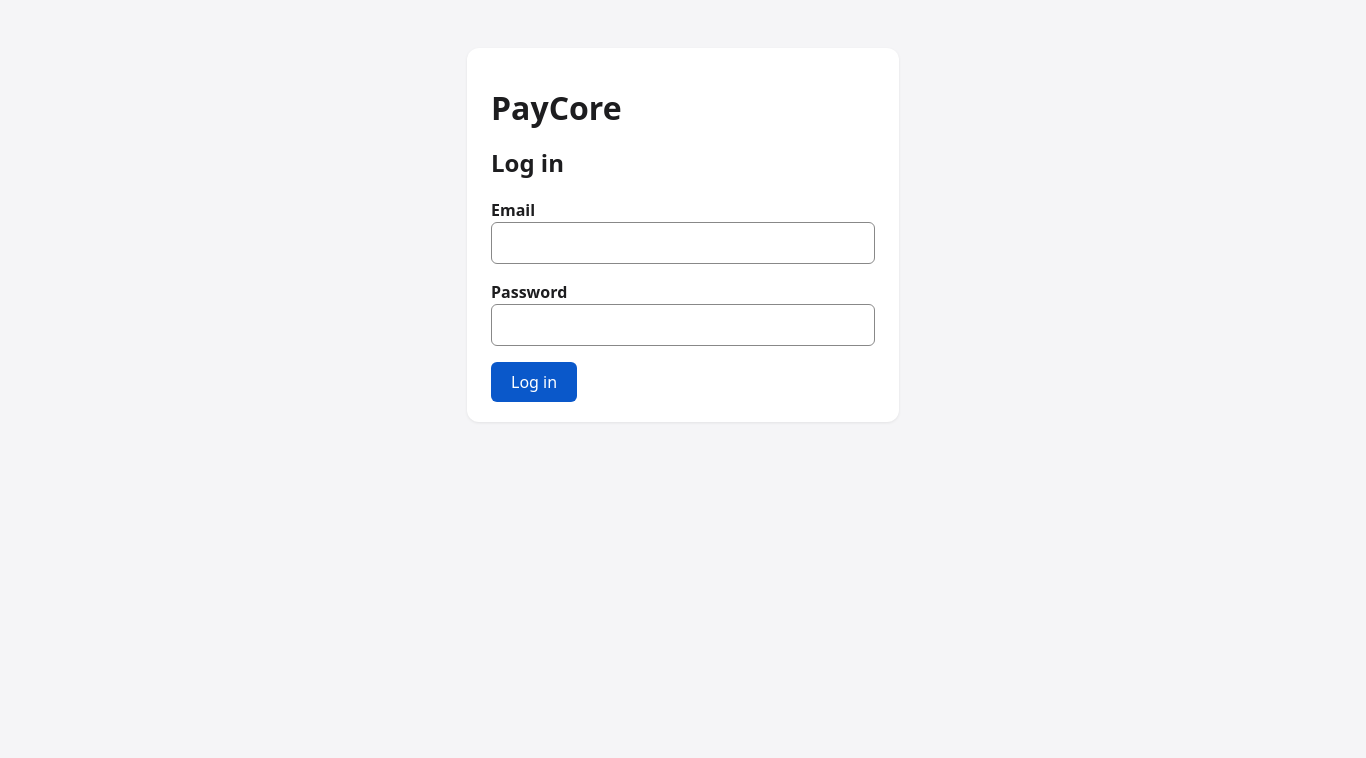
Scenario: App › logs in and shows wallets, balances and ledger entries
The width and height of the screenshot is (1366, 758).
Type "asha@example.com" into the field labelled "Email" at point(683, 243), box [491,222,875,264]
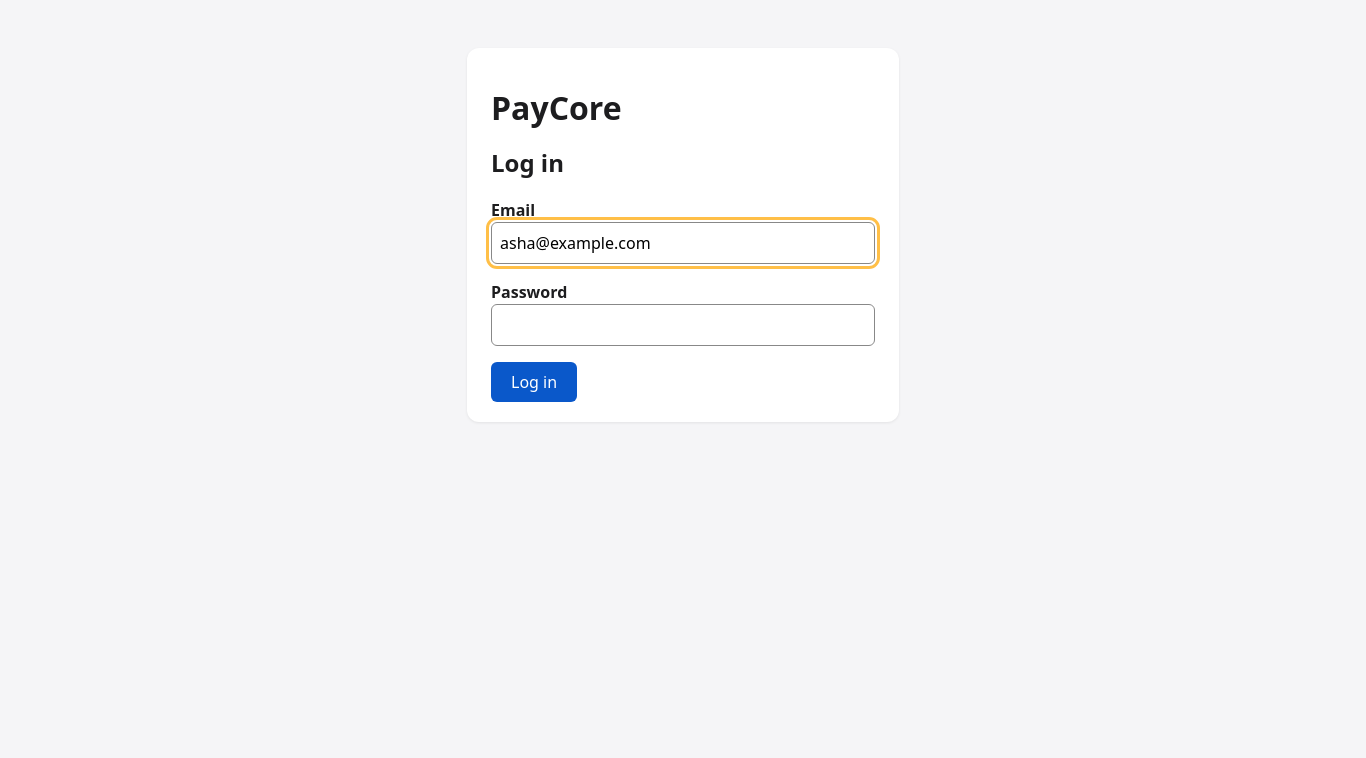
Type "a-long-password" into the password field labelled "Password" at point(683, 325), box [491,304,875,346]
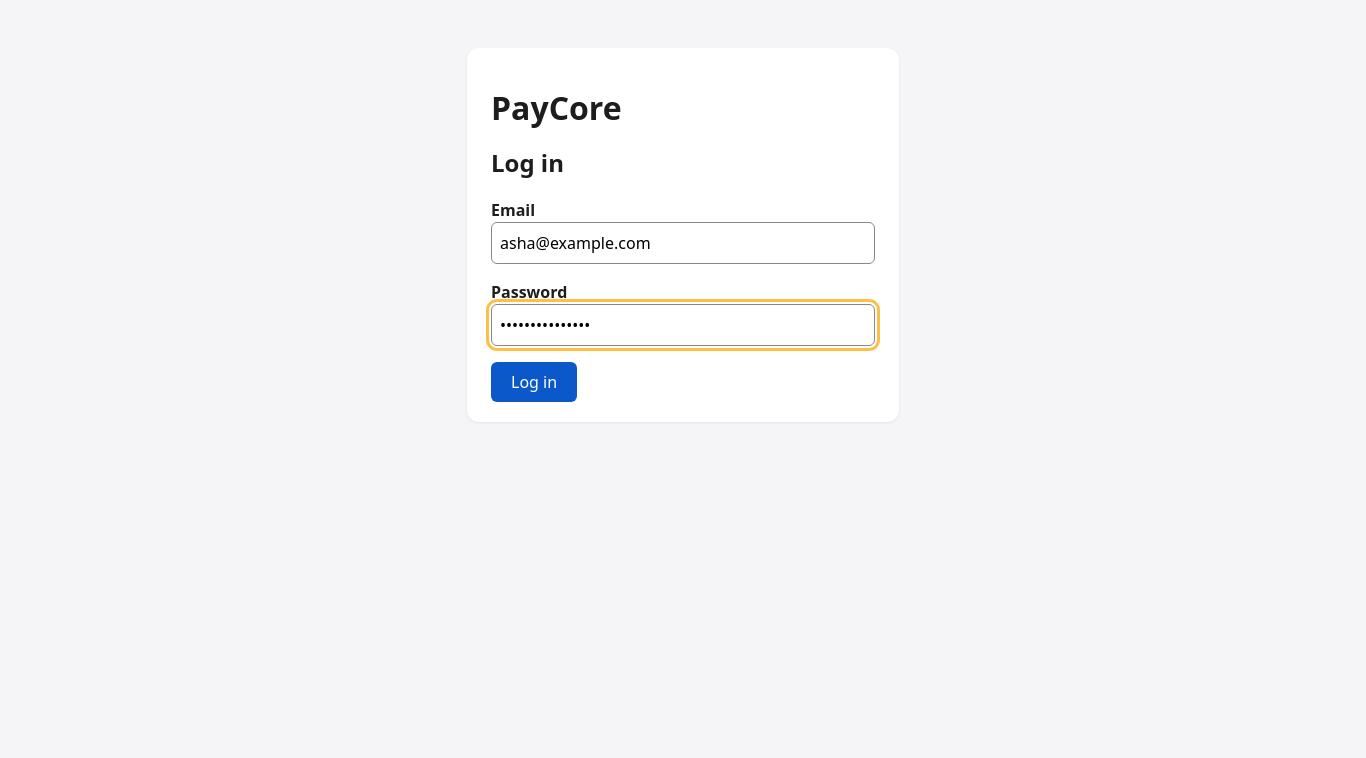
Click the button "Log in" at point(534, 382), box [491,362,577,402]
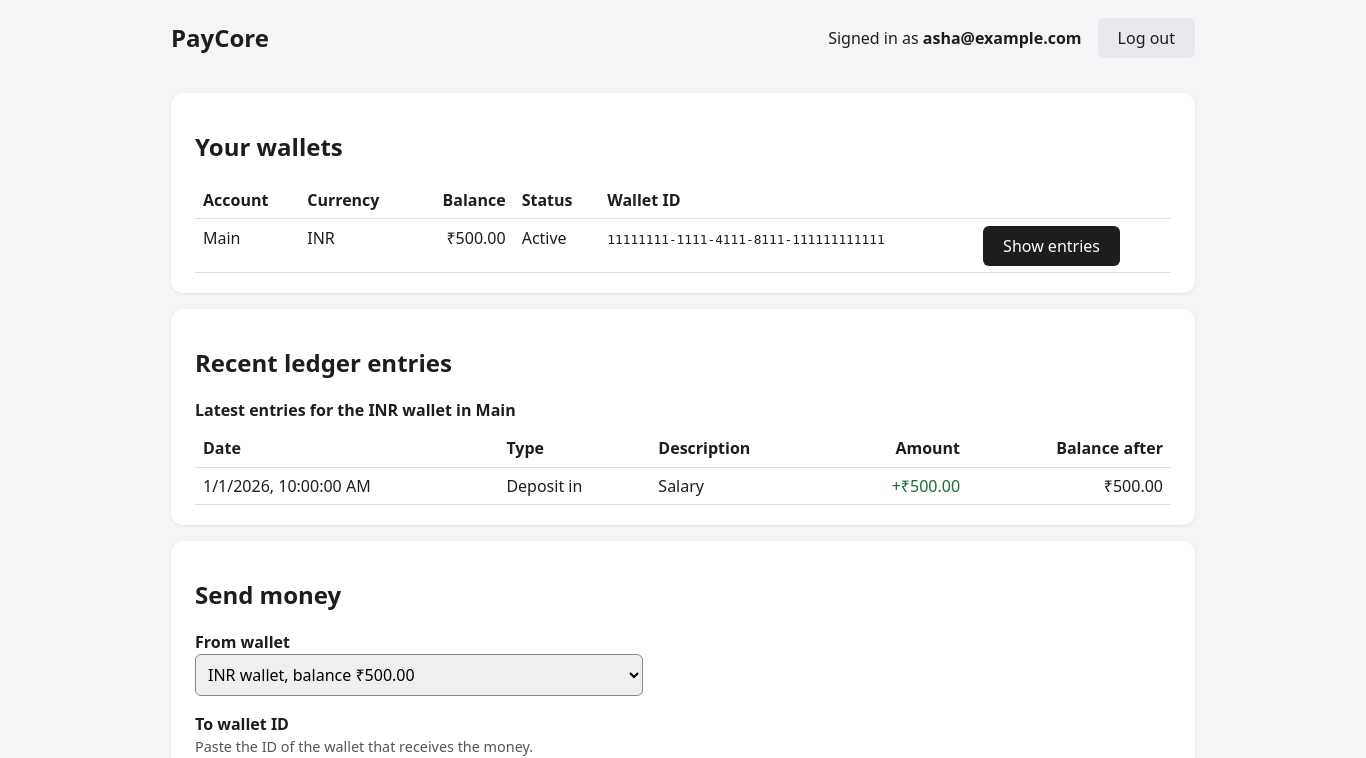
Now the text "Signed in as" is shown, box [828,28,923,50]
Now the text "₹500.00" next to "Active" is shown, box [446,227,506,249]
Now the text "Salary" is shown, box [650,467,829,505]
